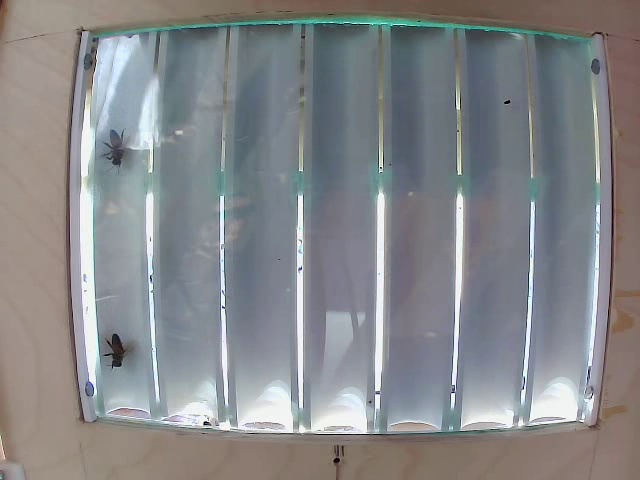bee: (97, 321, 134, 361), (96, 119, 131, 161)
